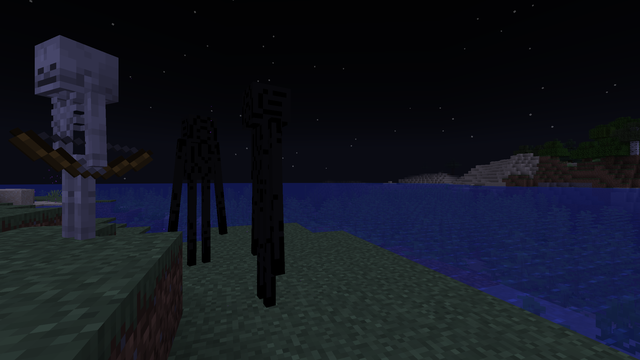endermens: (241, 73, 292, 315), (178, 108, 215, 268)
squelettes: (20, 32, 122, 245)
